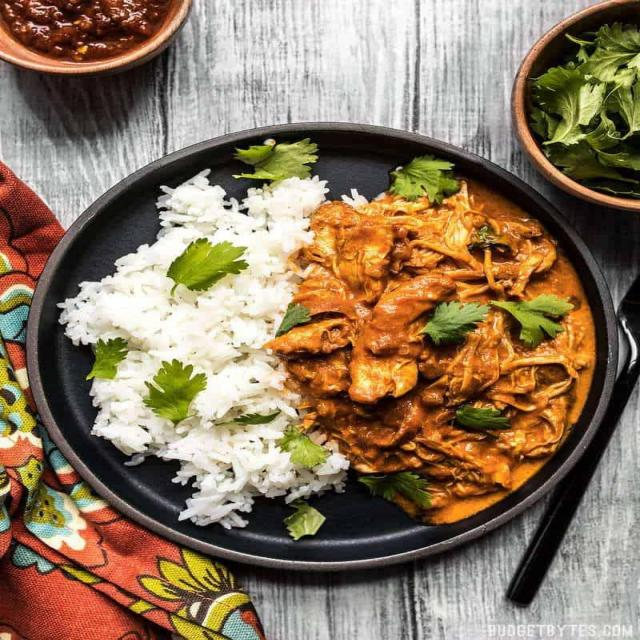chicken: (314, 165, 586, 515)
rice: (67, 163, 336, 505)
